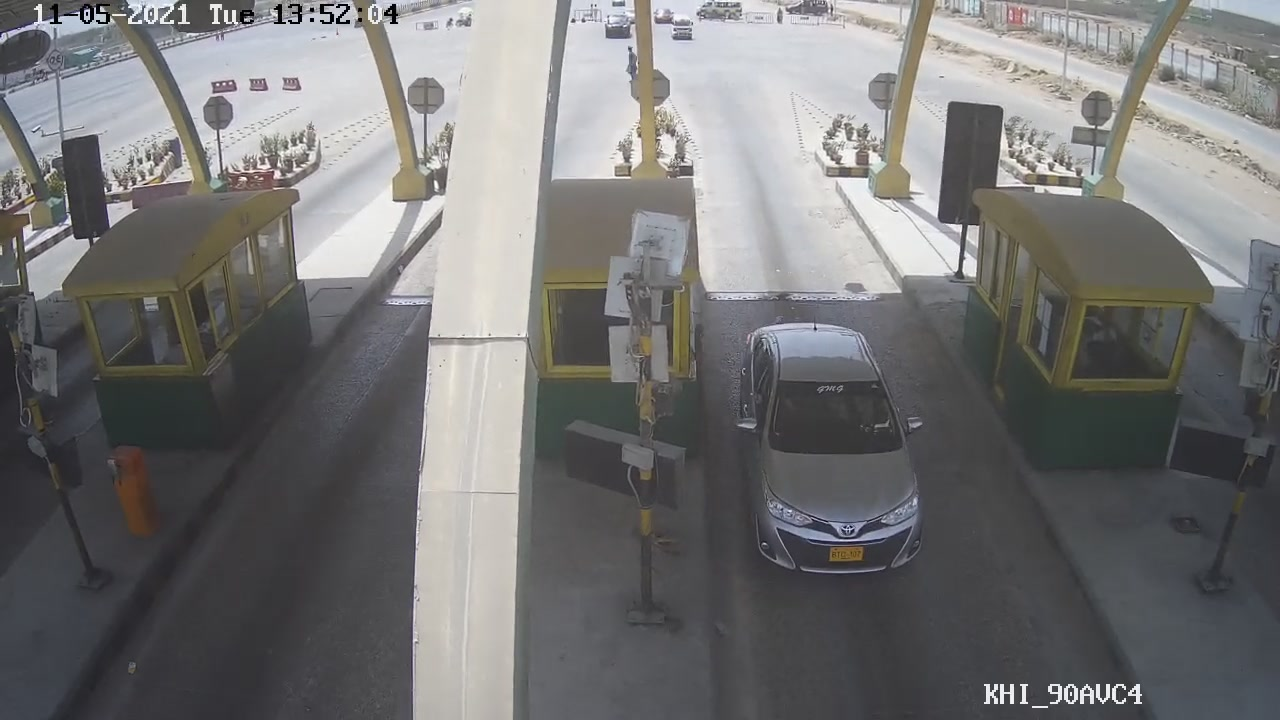F1: (735, 316, 926, 590)
